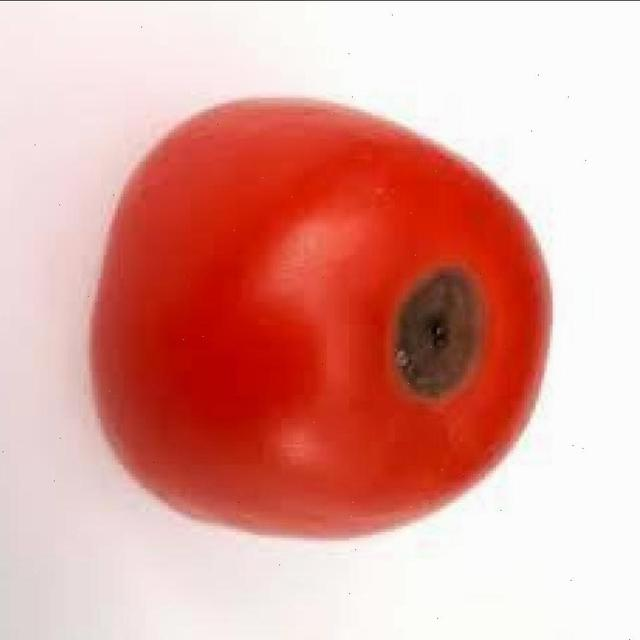Blossom End Rot Fruit: (259, 164, 335, 272)
